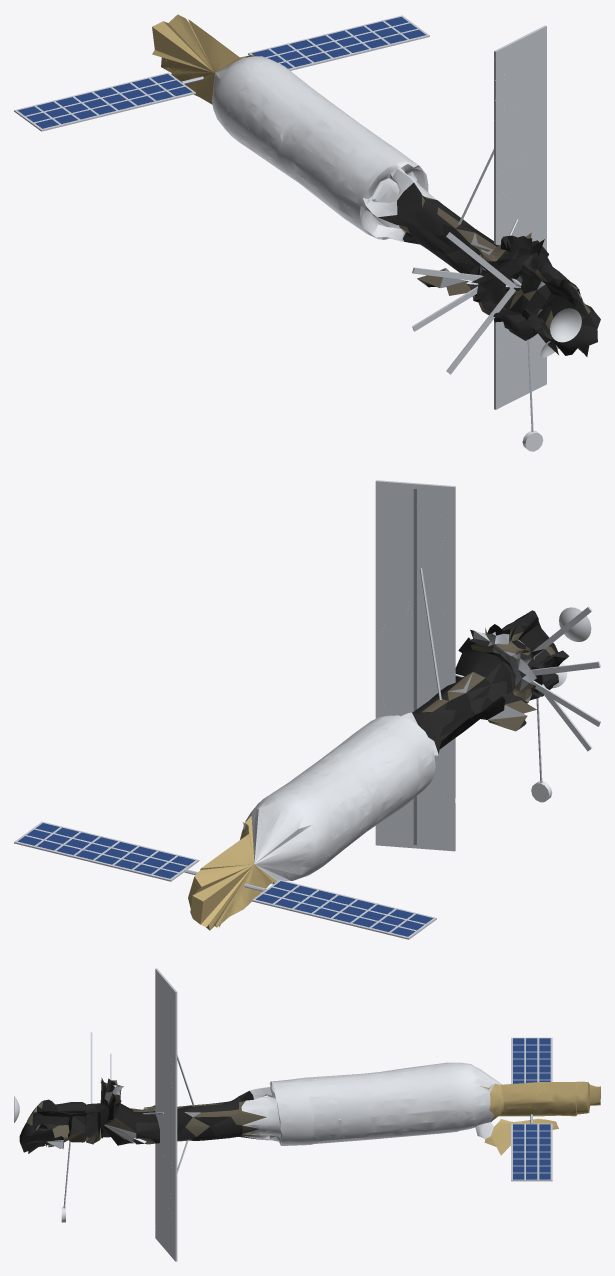
Rendered from seasat.glb.
3 views of the same model, one above another, from view 1: azimuth 30°, elevation 25°; view 2: azimuth 150°, elevation 25°; view 3: azimuth 270°, elevation 25° (orthographic). The views are drawn at different scales.
Visible parts, largest first — view 1: body, solar-panel, foil; view 2: body, solar-panel, foil; view 3: body, foil, solar-panel.
Part boxes in pixels (x1,y1,x2,y2): body: (14, 15, 600, 451); solar-panel: (17, 17, 425, 128); foil: (152, 14, 256, 104); body: (14, 480, 600, 939); solar-panel: (18, 823, 433, 936); foil: (188, 816, 276, 930); body: (14, 968, 552, 1261); foil: (480, 1081, 600, 1155); solar-panel: (513, 1038, 550, 1179).
Size of the model in its own units: 12.19 by 10.74 by 21.2.
